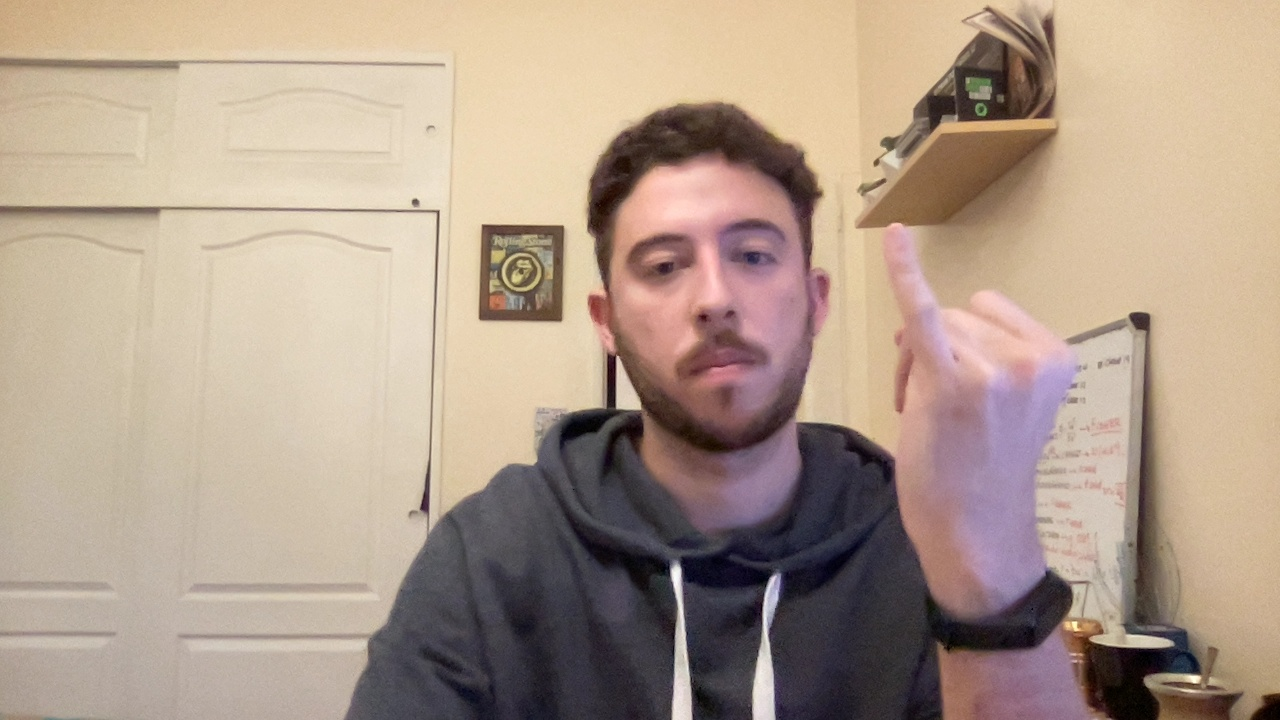menique: (845, 209, 1098, 557)
